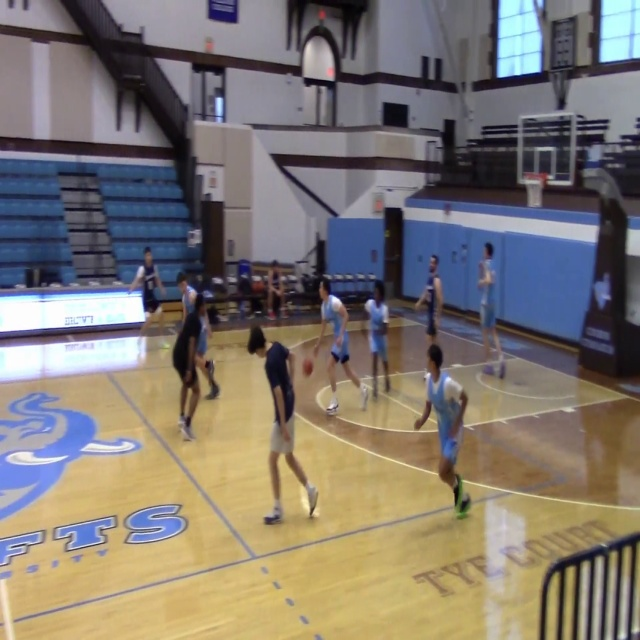Basketball: (302, 358, 313, 376)
